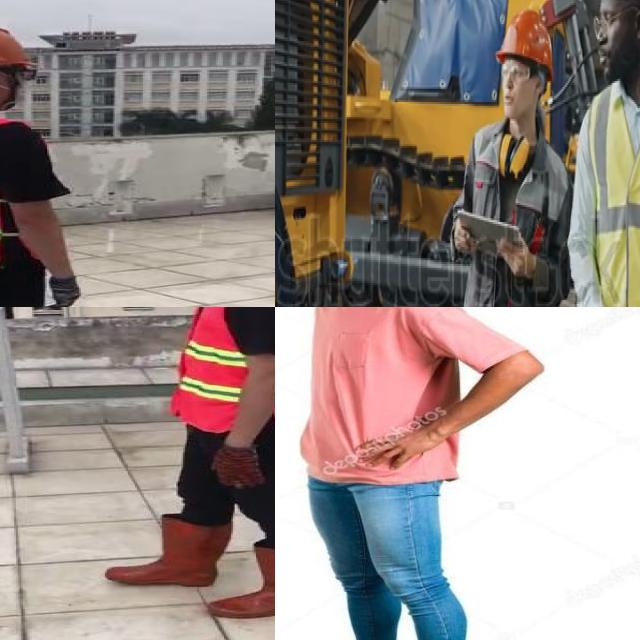Ear-protection: (502, 129, 531, 179)
boots: (102, 514, 230, 587), (213, 548, 275, 620)
glasses: (590, 4, 624, 34), (502, 58, 536, 85)
hand_glove: (210, 445, 266, 488), (44, 273, 79, 307)
hand_noglove: (352, 417, 457, 474)
head_helmet: (492, 0, 556, 71), (0, 20, 34, 71)
person: (280, 307, 545, 640), (97, 307, 275, 624), (448, 0, 577, 307), (0, 17, 94, 307), (565, 0, 640, 307)
vest: (582, 72, 640, 307), (174, 307, 275, 432)
